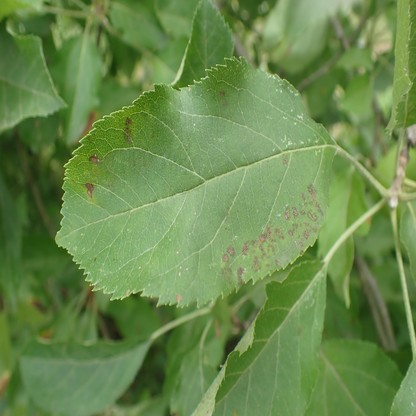powdery_mildew: (279, 253, 288, 265)
scab: (221, 184, 325, 287), (124, 116, 132, 143), (85, 181, 95, 202), (88, 153, 100, 165), (219, 90, 227, 107), (281, 153, 288, 163), (150, 131, 155, 139), (297, 327, 301, 337)
